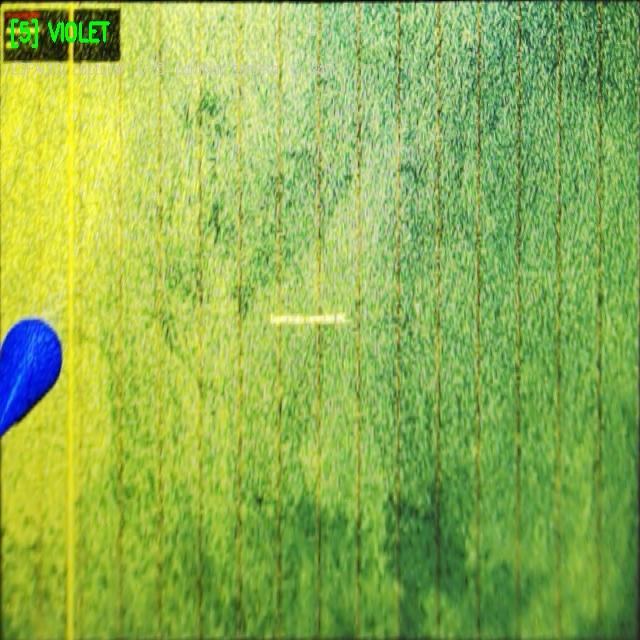violet: (0, 320, 61, 435)
